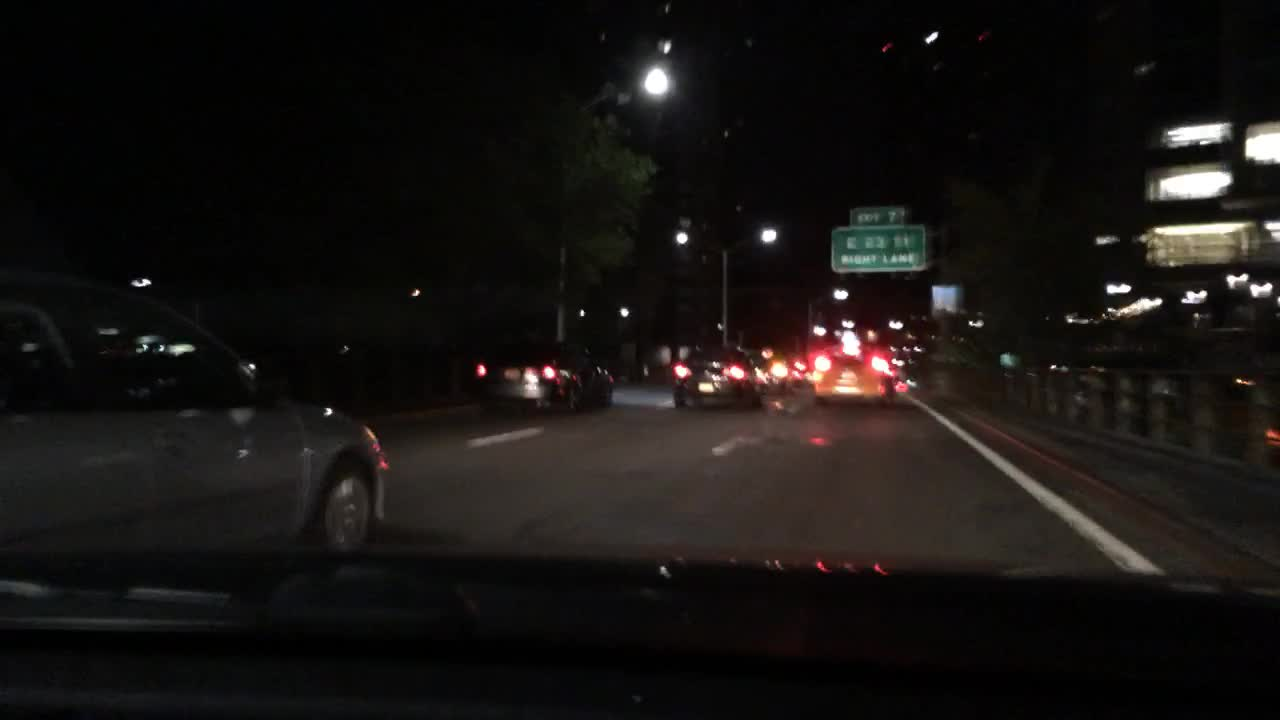car: (0, 265, 385, 569), (476, 339, 584, 411), (674, 348, 761, 409), (817, 338, 890, 404), (553, 346, 614, 409), (752, 348, 794, 390), (789, 346, 824, 383)
traffic sign: (831, 208, 927, 271)
